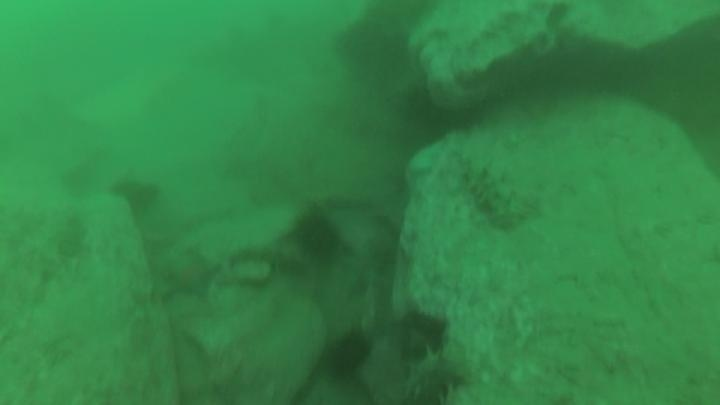echinus: (395, 308, 451, 364), (291, 209, 344, 264), (323, 328, 374, 381), (109, 174, 162, 218)
holothurian: (454, 150, 533, 231), (398, 342, 473, 404)
starfish: (159, 245, 223, 305)
